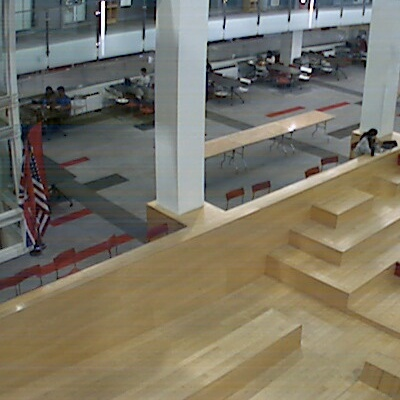head: (365, 127, 379, 141), (54, 85, 67, 98), (44, 83, 56, 95), (266, 49, 276, 59), (139, 67, 148, 76)
